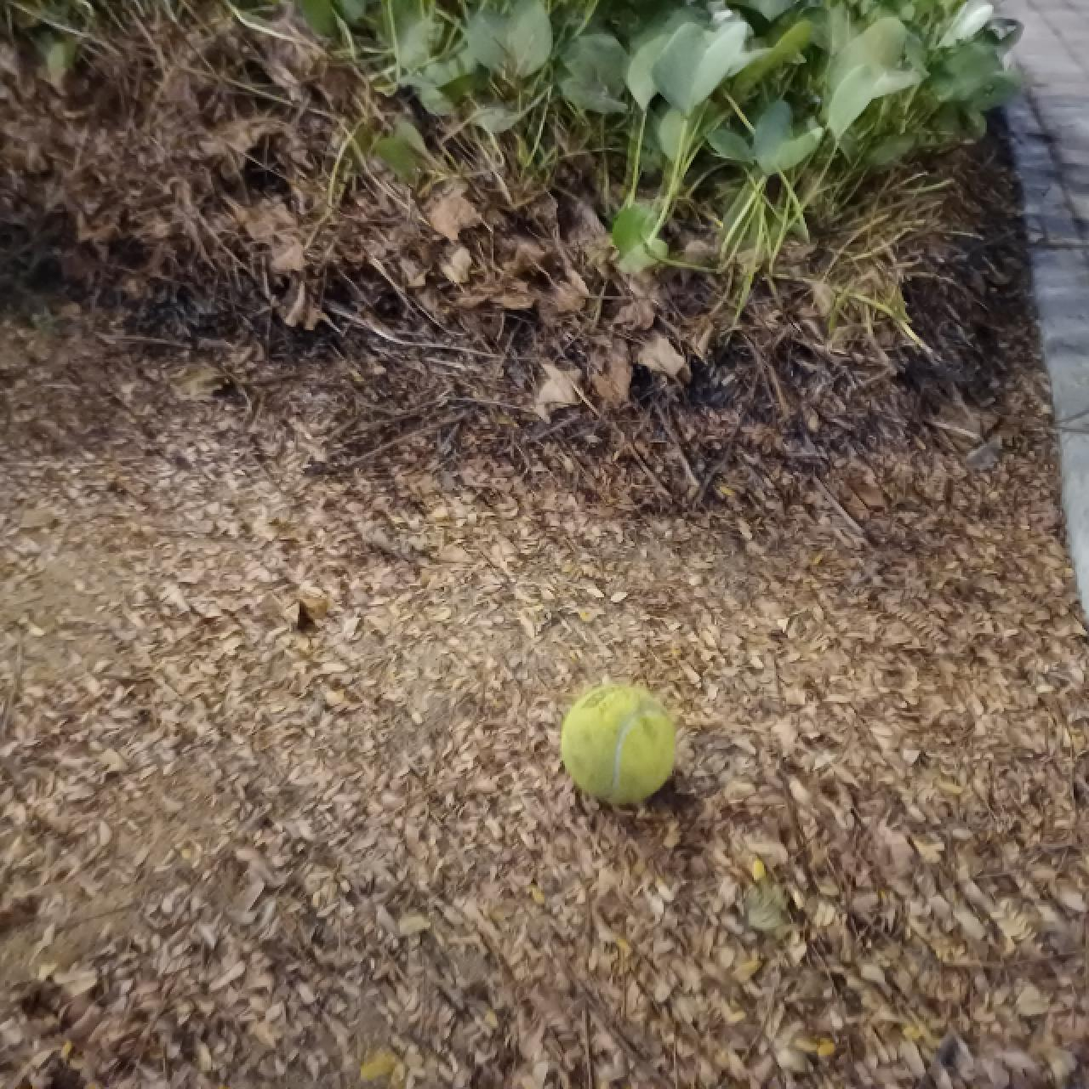tennis-ball: (562, 679, 676, 798)
